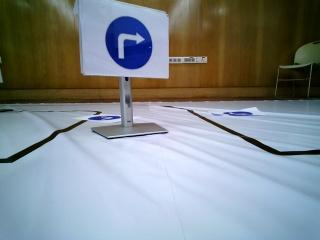right: (87, 2, 167, 77)
